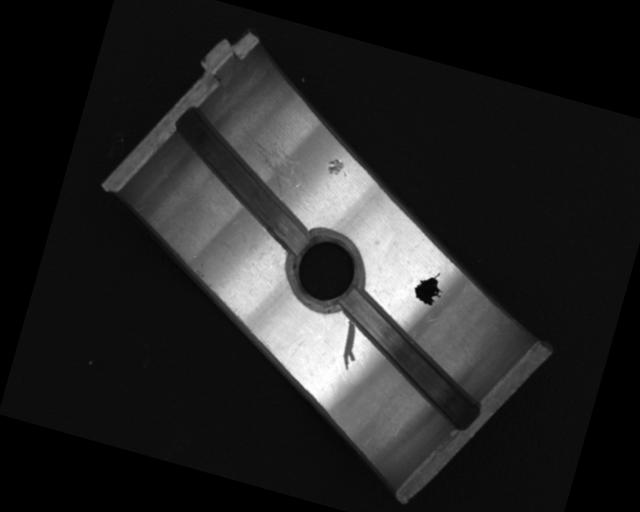blot: (410, 266, 448, 308)
bruise: (325, 155, 350, 179)
gap: (150, 103, 334, 256), (322, 289, 499, 430)
hole: (279, 225, 373, 318)
nick: (335, 320, 365, 372)
scratch: (225, 124, 311, 203)
